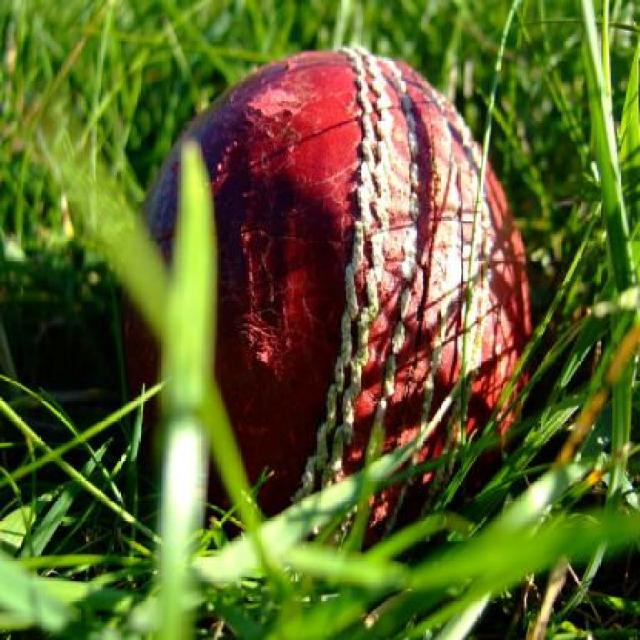Cricket ball: (130, 41, 538, 539)
